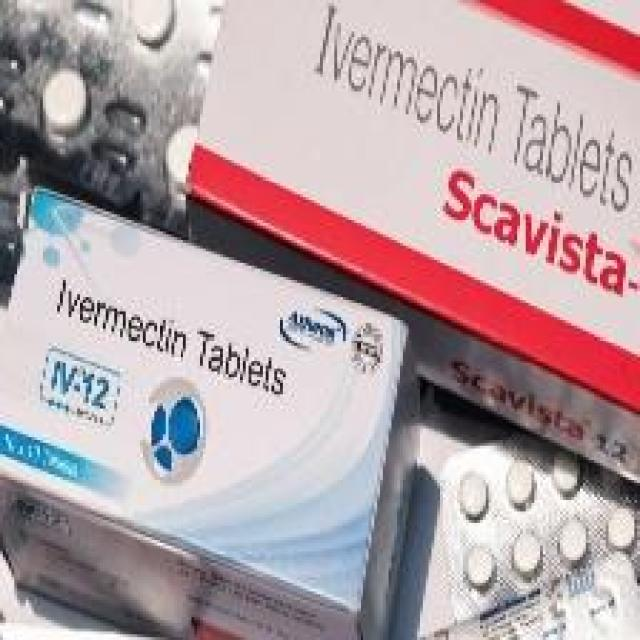Medicine: (5, 0, 640, 640)
